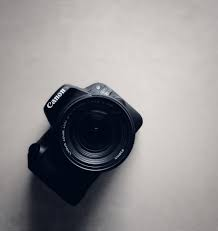camera: (27, 82, 143, 202)
